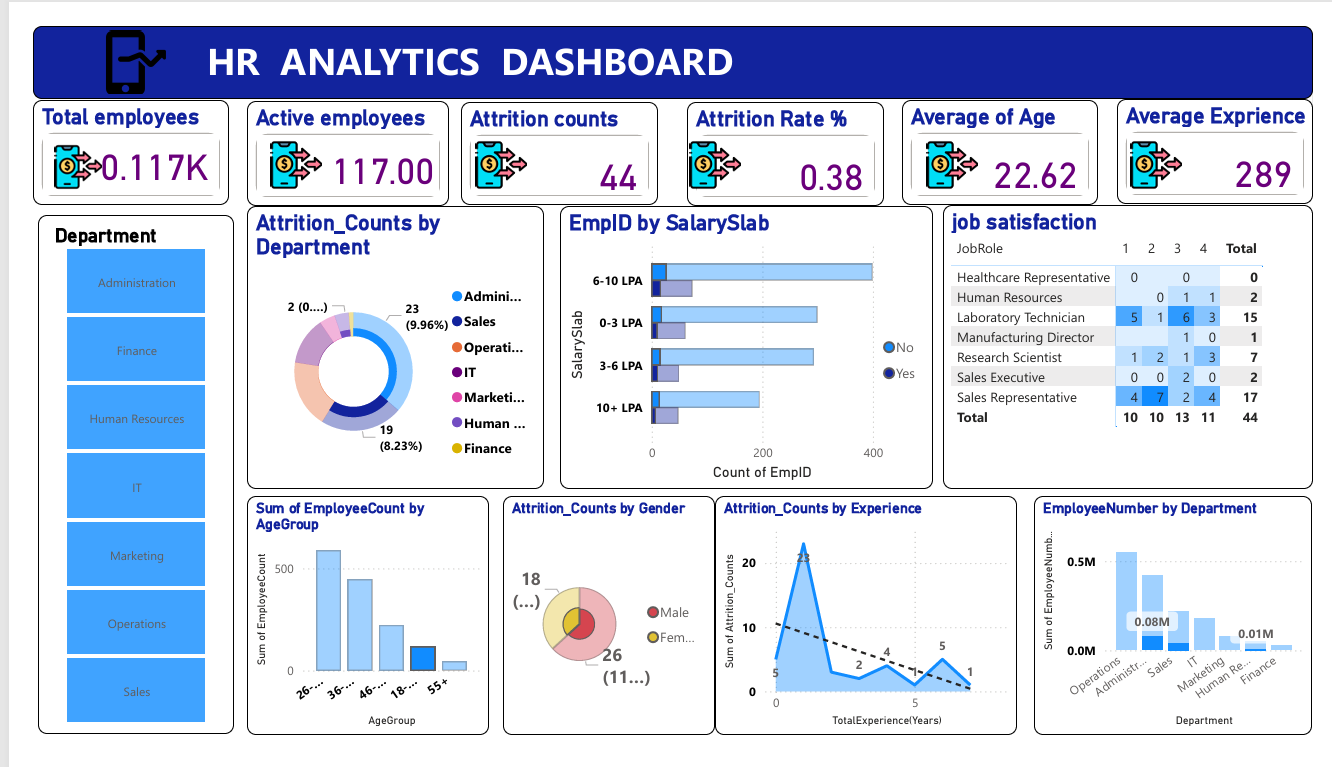

This screenshot's page, from the dashboard's own definition file:
{"tool":"powerbi","page":{"name":"Page 1","canvas":[1280,720],"ordinal":0},"visuals":[{"type":"textbox","box":[0,0,1280,73.2],"z":0},{"type":"image","box":[65,0,75.5,74.3],"z":1000},{"type":"cardVisual","title":"Total  employees","fields":{"Data":["CountNonNull(HR_Analytics-4.EmpID)"]},"box":[0,74.3,196.3,104.5],"z":2000},{"type":"cardVisual","title":"Active employees","fields":{"Data":["Sum(HR_Analytics-4.EmployeeCount)"]},"box":[214,74.6,201.8,105.2],"z":3000},{"type":"cardVisual","title":"Attrition Rate %","fields":{"Data":["HR_Analytics-4.Atrrition Rate"]},"box":[654.2,75.8,196.9,103.9],"z":4000},{"type":"cardVisual","title":"Average of Age","fields":{"Data":["Avg(HR_Analytics-4.Age)"]},"box":[868.8,74.3,196.3,104.5],"z":5000},{"type":"cardVisual","title":"Average Exprience","fields":{"Data":["Sum(HR_Analytics-4.YearsatCompany)"]},"box":[1083.7,73.2,196.3,104.5],"z":6000},{"type":"cardVisual","title":"Attrition counts","fields":{"Data":["Sum(HR_Analytics-4.Attrition_Counts)"]},"box":[428.3,75.6,196.5,103.8],"z":7000},{"type":"image","box":[9.1,111.9,72.6,58.5],"z":8000},{"type":"image","box":[640,107.8,84.7,62.5],"z":9000},{"type":"image","box":[1083.5,107.8,81.6,62.5],"z":10000},{"type":"image","box":[225.8,107.8,76.6,62.5],"z":11000},{"type":"image","box":[428.3,107.8,81.6,62.5],"z":12000},{"type":"image","box":[880.9,107.8,77.6,62.5],"z":13000},{"type":"donutChart","title":"Attrition_Counts by Department","fields":{"Category":["HR_Analytics-4.Department"],"Y":["Sum(HR_Analytics-4.Attrition_Counts)"]},"box":[213.6,179.8,297.2,283],"z":14000},{"type":"clusteredBarChart","title":" EmpID by SalarySlab","fields":{"Category":["HR_Analytics-4.SalarySlab"],"Y":["CountNonNull(HR_Analytics-4.EmpID)"],"Series":["HR_Analytics-4.Attrition"]},"box":[526.6,180.3,373.7,282.8],"z":15000},{"type":"pivotTable","title":"job satisfaction","fields":{"Rows":["HR_Analytics-4.JobRole"],"Columns":["HR_Analytics-4.JobSatisfaction"],"Values":["Sum(HR_Analytics-4.Attrition_Counts)"]},"box":[910.4,178.9,369.3,284.2],"z":16000},{"type":"columnChart","fields":{"Category":["HR_Analytics-4.AgeGroup"],"Y":["Sum(HR_Analytics-4.EmployeeCount)"]},"box":[213.6,469.9,242.1,250.9],"z":17000},{"type":"pieChart","title":" Attrition_Counts by Gender","fields":{"Category":["HR_Analytics-4.Gender"],"Y":["Sum(HR_Analytics-4.Attrition_Counts)"]},"box":[469.9,469.9,211.8,250.9],"z":18000},{"type":"areaChart","title":"Attrition_Counts by Experience","fields":{"Category":["HR_Analytics-4.TotalExperience(Years)"],"Y":["Sum(HR_Analytics-4.Attrition_Counts)"]},"box":[682.3,469.6,302,250.7],"z":19000},{"type":"slicer","fields":{"Values":["HR_Analytics-4.Department"]},"box":[5.3,188.7,195.8,519.7],"z":20000},{"type":"lineClusteredColumnComboChart","title":" EmployeeNumber by Department","fields":{"Category":["HR_Analytics-4.Department"],"Y":["Sum(HR_Analytics-4.EmployeeNumber)"]},"box":[1001.5,469.6,277.6,250.7],"z":21000}]}

Visuals, with their boxes in screenshot pixels (x1, y1, x2, y2), scaled from the page's 1280x720 canvas onto the 1332x767 screenshot:
textbox: pyautogui.locateOnScreen(0, 0, 1331, 78)
image: pyautogui.locateOnScreen(68, 0, 146, 79)
"Total  employees" cardVisual: pyautogui.locateOnScreen(0, 79, 204, 190)
"Active employees" cardVisual: pyautogui.locateOnScreen(223, 79, 433, 192)
"Attrition Rate %" cardVisual: pyautogui.locateOnScreen(681, 81, 886, 191)
"Average of Age" cardVisual: pyautogui.locateOnScreen(904, 79, 1108, 190)
"Average Exprience" cardVisual: pyautogui.locateOnScreen(1128, 78, 1331, 189)
"Attrition counts" cardVisual: pyautogui.locateOnScreen(446, 81, 650, 191)
image: pyautogui.locateOnScreen(9, 119, 85, 182)
image: pyautogui.locateOnScreen(666, 115, 754, 181)
image: pyautogui.locateOnScreen(1128, 115, 1212, 181)
image: pyautogui.locateOnScreen(235, 115, 315, 181)
image: pyautogui.locateOnScreen(446, 115, 531, 181)
image: pyautogui.locateOnScreen(917, 115, 997, 181)
"Attrition_Counts by Department" donutChart: pyautogui.locateOnScreen(222, 192, 532, 493)
" EmpID by SalarySlab" clusteredBarChart: pyautogui.locateOnScreen(548, 192, 937, 493)
"job satisfaction" pivotTable: pyautogui.locateOnScreen(947, 191, 1331, 493)
columnChart - HR_Analytics-4.AgeGroup x Sum(HR_Analytics-4.EmployeeCount): pyautogui.locateOnScreen(222, 501, 474, 766)
" Attrition_Counts by Gender" pieChart: pyautogui.locateOnScreen(489, 501, 709, 766)
"Attrition_Counts by Experience" areaChart: pyautogui.locateOnScreen(710, 500, 1024, 766)
slicer - HR_Analytics-4.Department: pyautogui.locateOnScreen(6, 201, 209, 755)
" EmployeeNumber by Department" lineClusteredColumnComboChart: pyautogui.locateOnScreen(1042, 500, 1331, 766)
